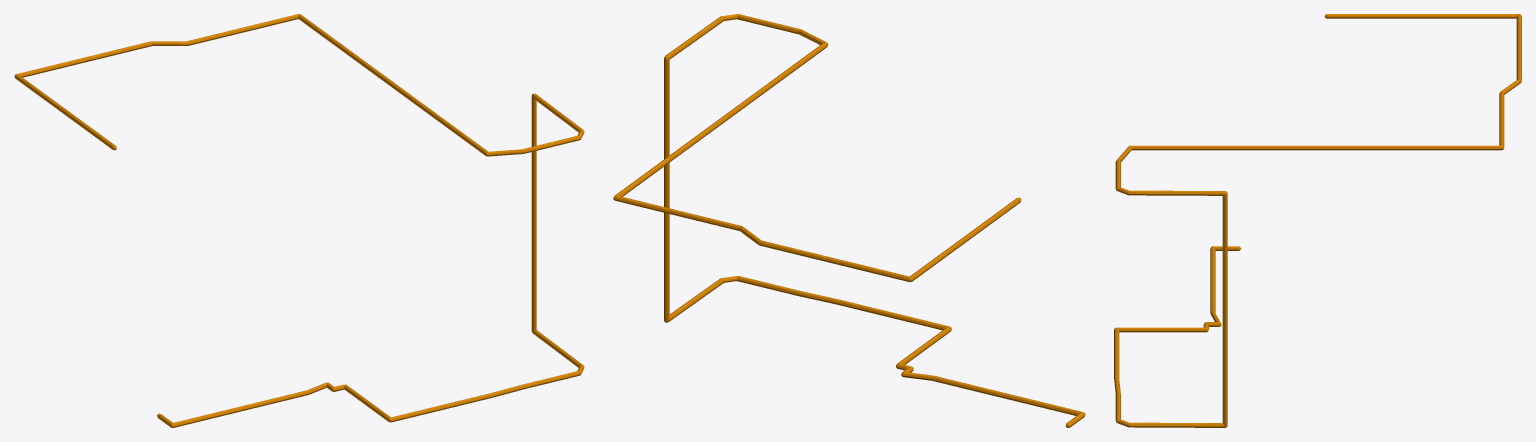
The picture shows the model from 3 angles, left to right: view 1: azimuth 30°, elevation 25°; view 2: azimuth 150°, elevation 25°; view 3: azimuth 270°, elevation 25°; orthographic projection. The views are drawn at different scales.
Bounding box in the file's own units: 1657 × 1020 × 1592.
